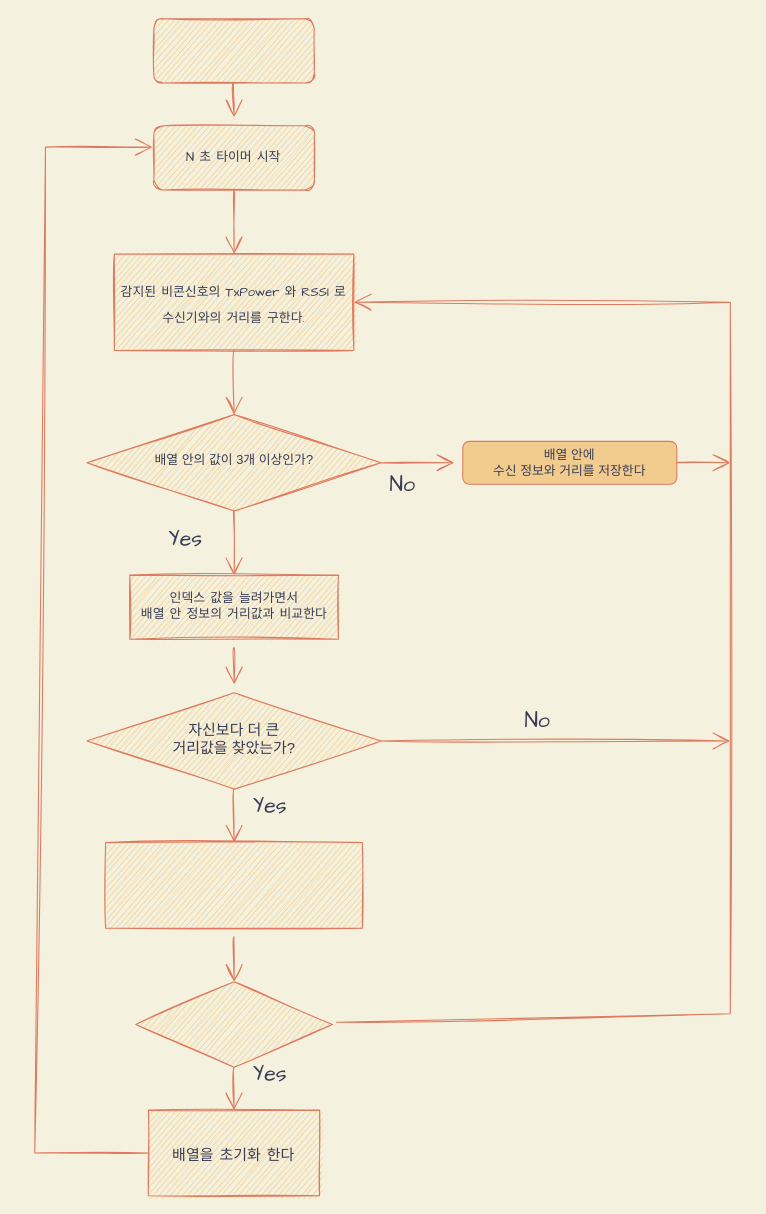
Image size: 766x1214. Some labels were removed from this diagram. The centre of each missing label's shape, as x and y in pixels:
비콘 신호가 감지시작: (233,50)
새로 구한 정보를 자신보다 더 큰 거리값에 저장한다.: (233,885)
타이머 완료?: (233,1024)
